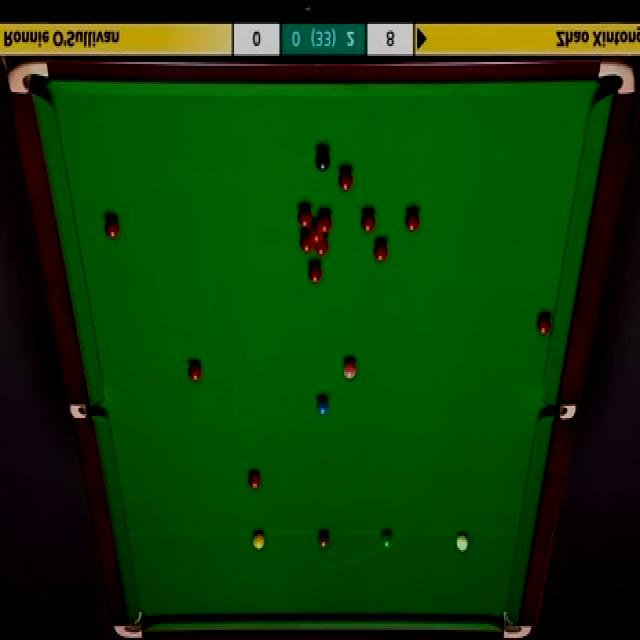black-ball: (314, 148, 330, 173)
blue-ball: (316, 393, 330, 418)
brown-ball: (317, 531, 330, 550)
green-ball: (381, 531, 394, 550)
pink-ball: (342, 358, 358, 380)
red-ball: (402, 206, 422, 234), (372, 237, 388, 266), (360, 206, 376, 234), (339, 166, 354, 195), (104, 214, 120, 240), (537, 310, 551, 336), (297, 204, 312, 228), (308, 260, 323, 284), (314, 234, 329, 257), (300, 230, 314, 254), (189, 359, 202, 384), (318, 211, 332, 234), (248, 468, 262, 490), (310, 222, 324, 242)
white-ball: (456, 532, 471, 554)
yellow-ball: (252, 531, 265, 550)
